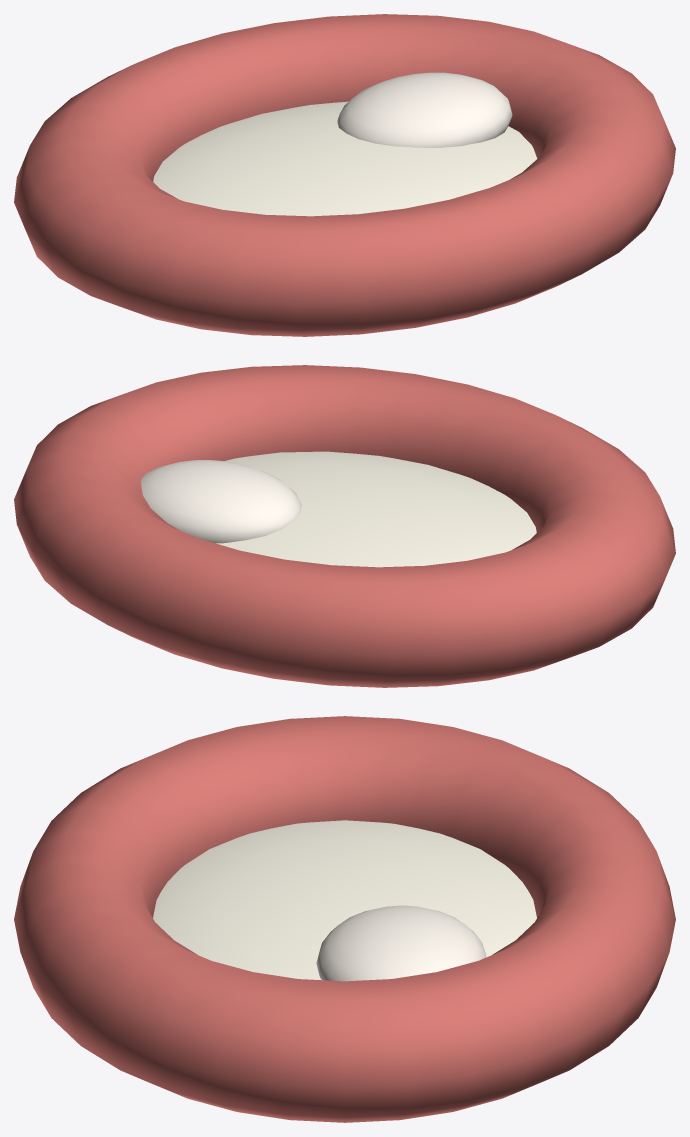
The model's file is bed-red.glb.
3 renders of one model, top to bottom at view 1: azimuth 30°, elevation 25°; view 2: azimuth 150°, elevation 25°; view 3: azimuth 270°, elevation 25°, orthographic. The views are drawn at different scales.
Parts seen in each view (by area): view 1: Soft bed rim, Pet bed cushion, Little pillow; view 2: Soft bed rim, Pet bed cushion, Little pillow; view 3: Soft bed rim, Pet bed cushion, Little pillow.
Boxes of the visible parts, x1,y1,x2,y2 form: Soft bed rim: (14,14,675,336); Pet bed cushion: (153,101,537,216); Little pillow: (337,72,512,147); Soft bed rim: (14,365,675,687); Pet bed cushion: (216,451,536,567); Little pillow: (141,460,301,543); Soft bed rim: (14,716,675,1122); Pet bed cushion: (153,820,536,980); Little pillow: (316,905,486,981).
Size of the model in its own units: 1.94 by 0.4417 by 1.62.
